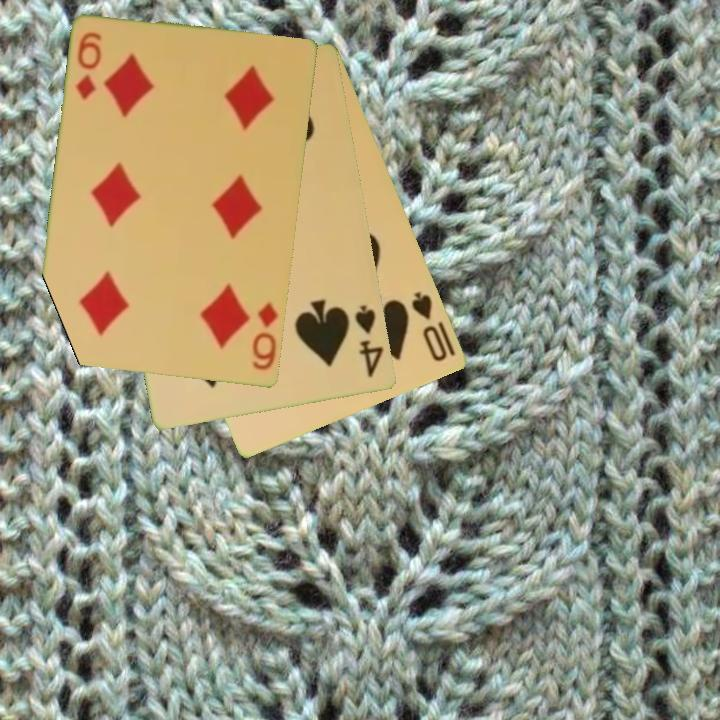10s: (408, 288, 451, 365)
4s: (352, 301, 387, 381)
6d: (72, 29, 105, 103), (249, 299, 281, 374)
